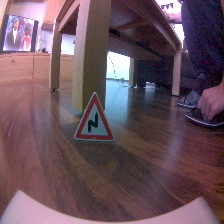vorsicht: (71, 90, 115, 143)
